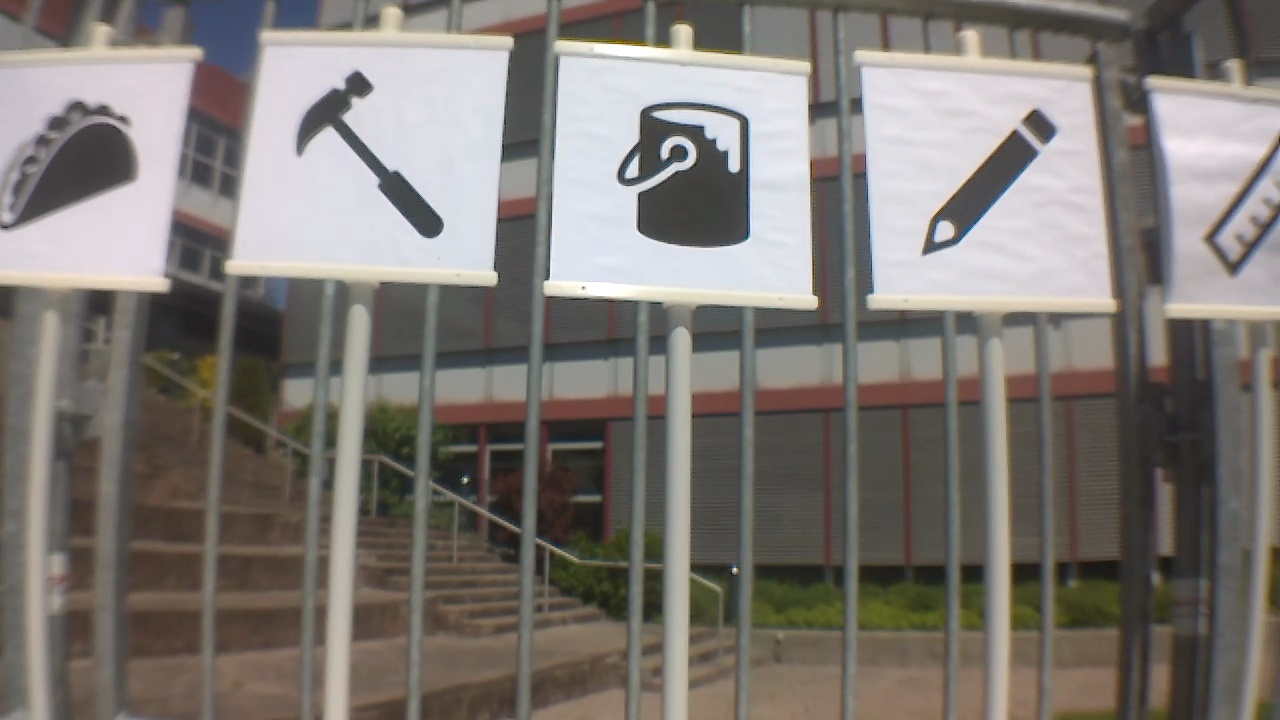bucket: (604, 99, 761, 245)
hammer: (281, 61, 457, 240)
pencil: (916, 104, 1063, 258)
ruler: (1204, 116, 1280, 263)
taco: (0, 97, 150, 236)
